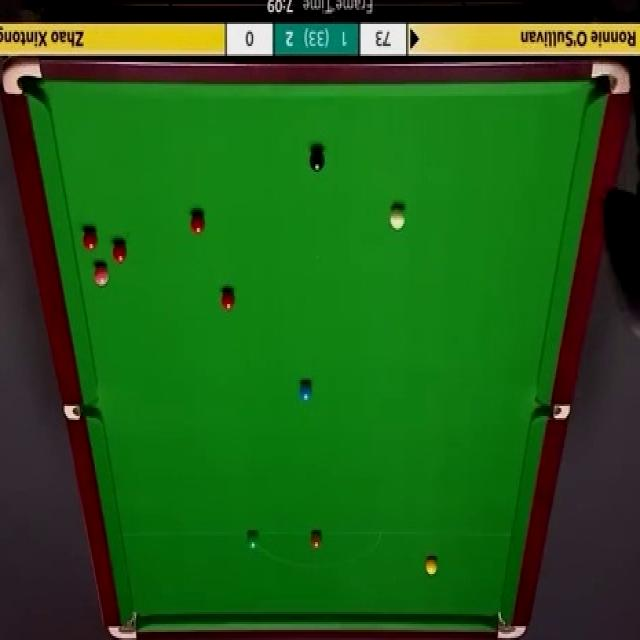pocket: (0, 57, 44, 97), (591, 58, 635, 96), (495, 608, 528, 640), (110, 610, 139, 638), (536, 403, 574, 422), (65, 403, 99, 420)
